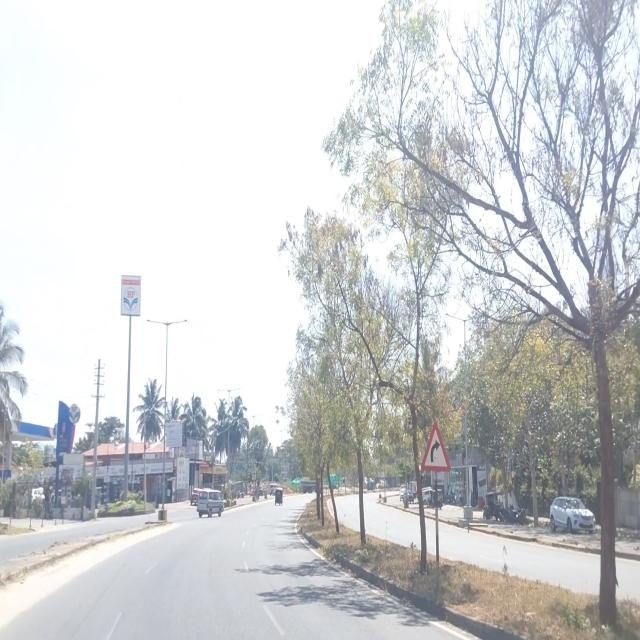bien_nguy_hiem: (421, 422, 452, 471)
